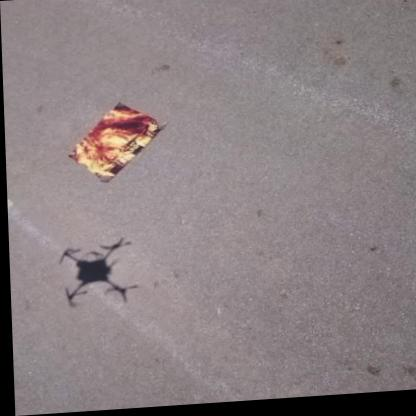fire-poster: (63, 100, 170, 186)
